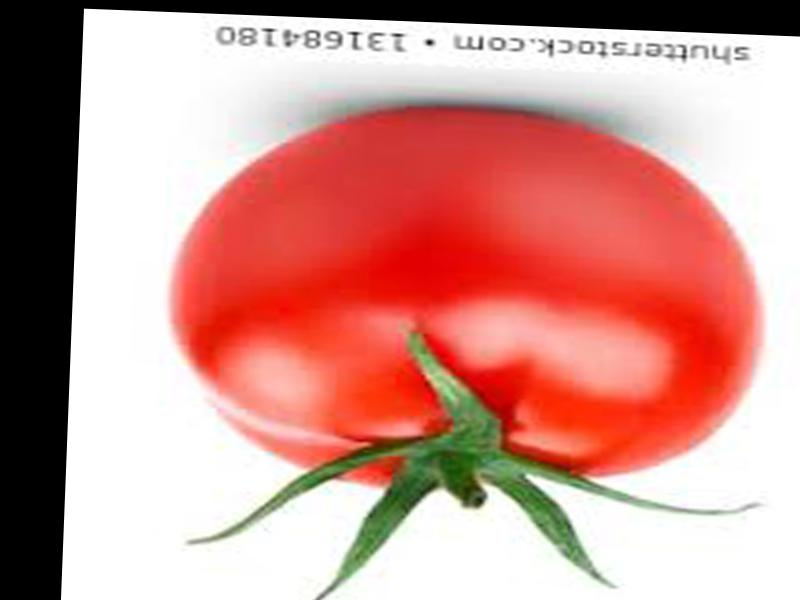Tomato: (161, 101, 768, 498)
